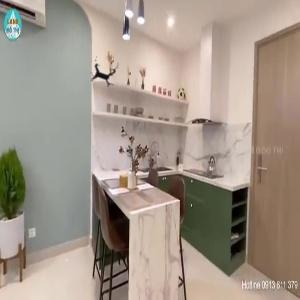drone: (76, 46, 133, 103)
